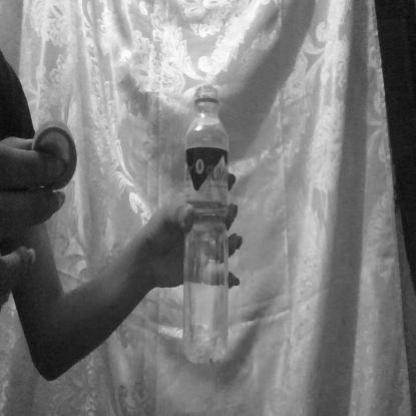Plastic Bottle: (165, 60, 251, 377)
